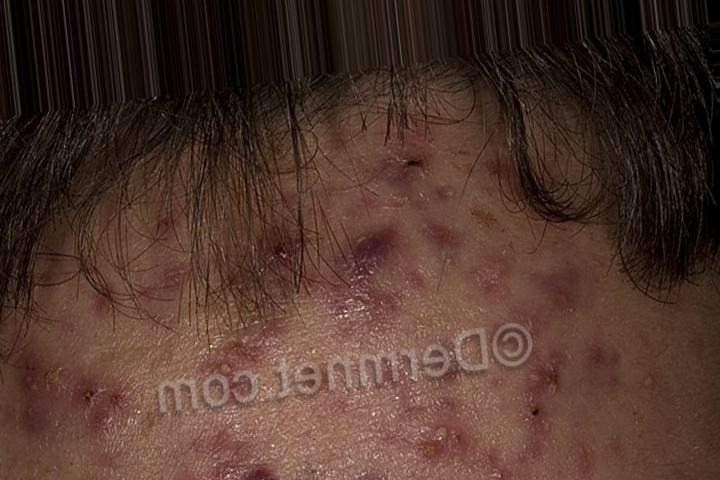Acne: (17, 144, 643, 463)
